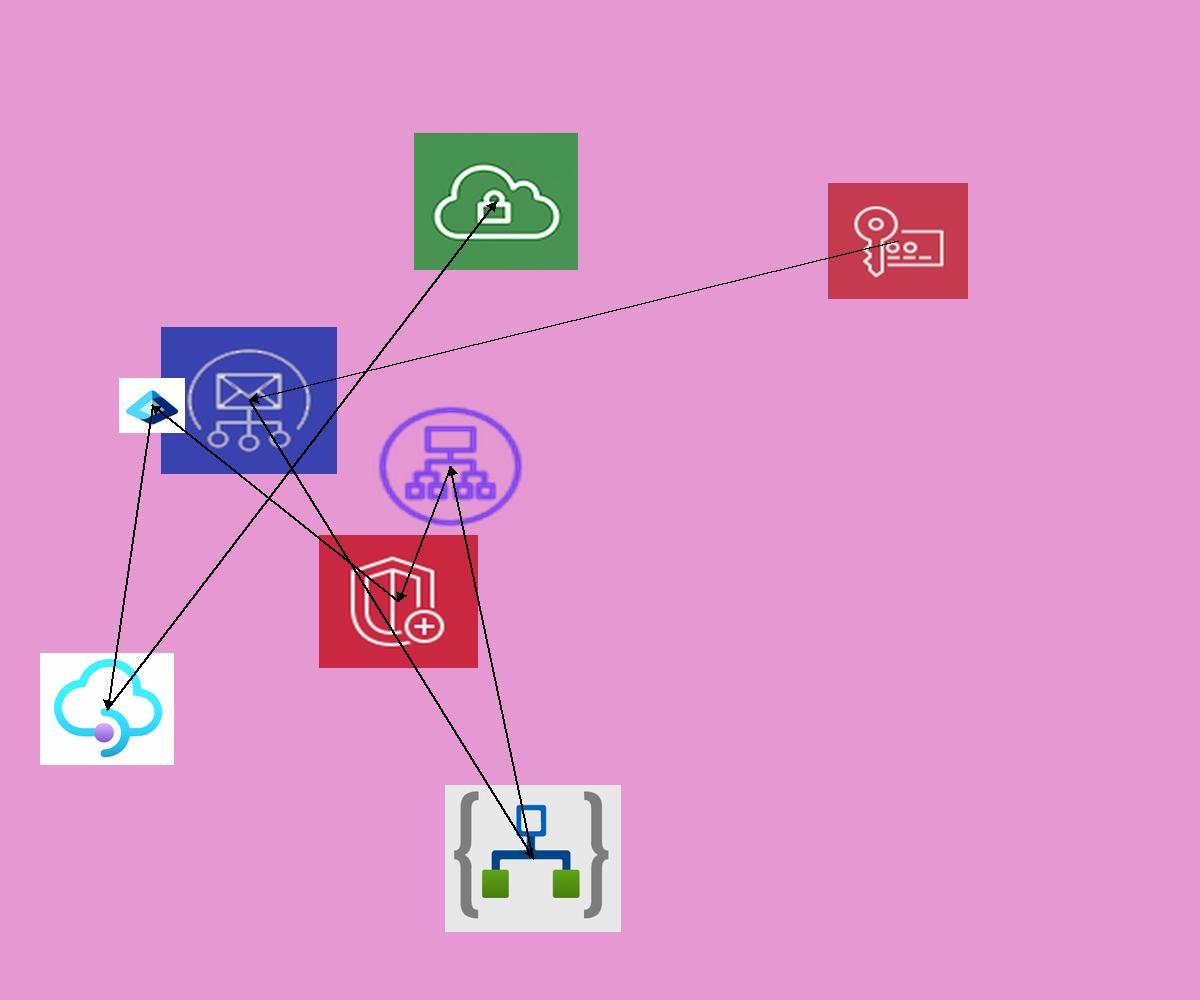AWS-Key-Management-Service: (828, 183, 968, 299)
AWS-Private_vpc: (414, 133, 578, 270)
AWS-Res_Elastic-Load-Balancing_Application-Load-Balancer: (373, 402, 528, 531)
AWS-Shield: (319, 535, 478, 668)
AWS-Simple-Email-Service: (161, 327, 337, 474)
Azure_api_gateway: (40, 653, 174, 765)
Azure_integration-204-Logic-Apps: (445, 785, 621, 932)
Azure_microsoft_entra: (119, 378, 185, 433)
